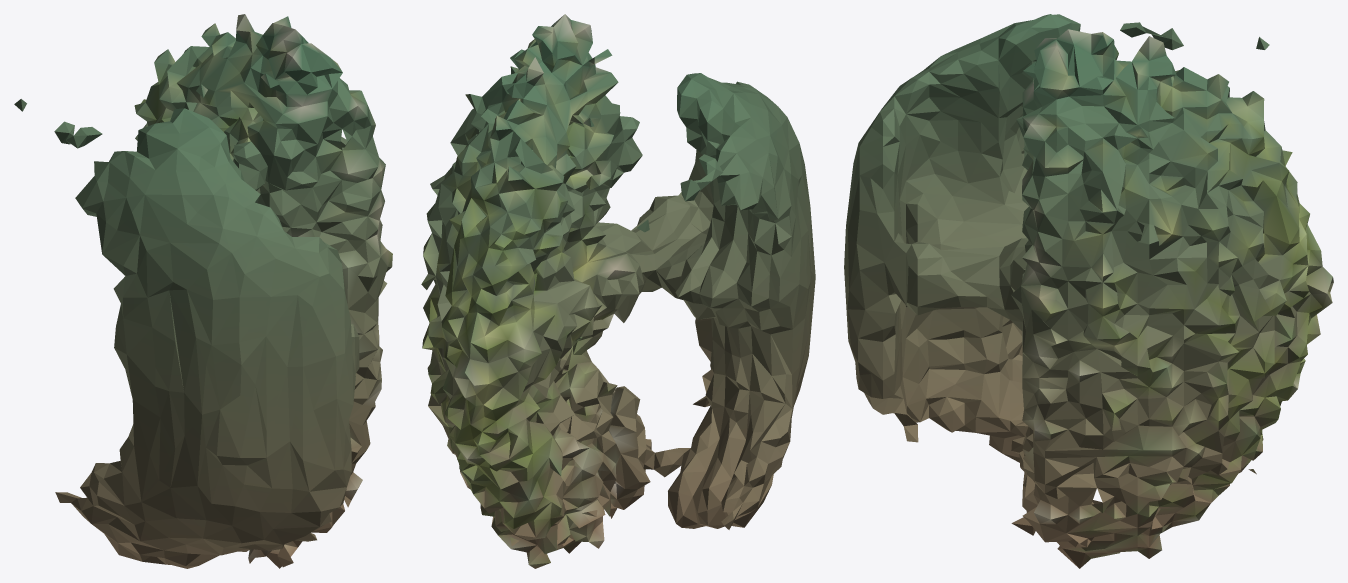
Rendered from tree_broad.glb.
3 renders of one model, left to right at view 1: azimuth 30°, elevation 25°; view 2: azimuth 150°, elevation 25°; view 3: azimuth 270°, elevation 25°, orthographic. The views are drawn at different scales.
Parts seen in each view (by area): view 1: world; view 2: world; view 3: world.
Boxes of the visible parts, bbox=[...] form: world: bbox=[14, 14, 392, 568]; world: bbox=[421, 14, 815, 568]; world: bbox=[844, 14, 1333, 568].
Size of the model in its own units: 6.58 by 11 by 8.97.
